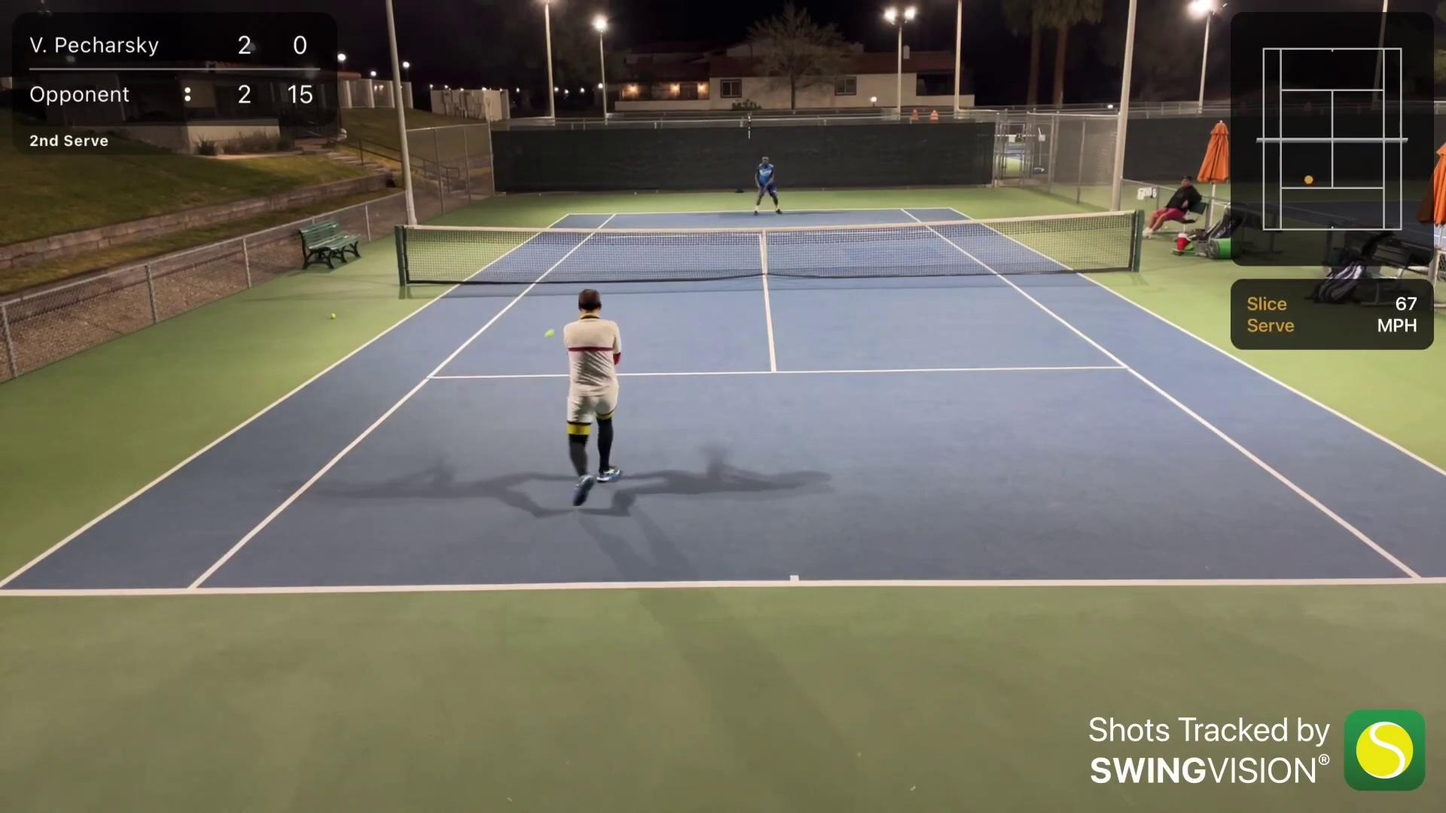ball: (542, 330, 559, 341), (327, 312, 337, 319)
